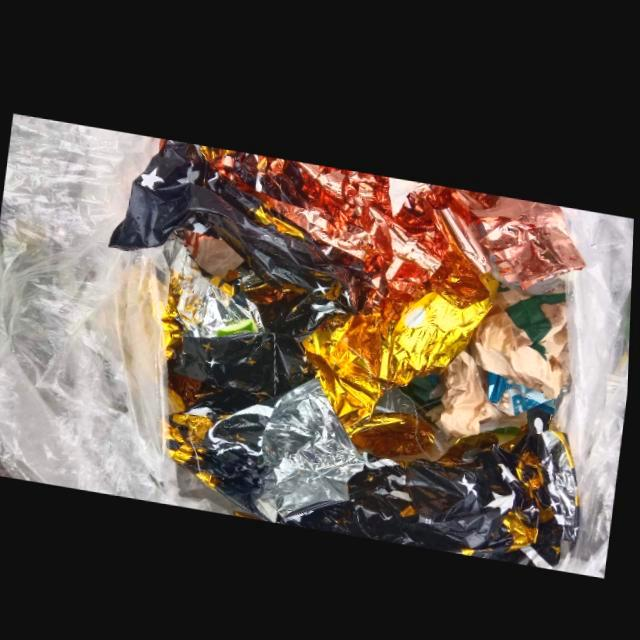aluminum: (109, 136, 350, 510), (210, 154, 586, 306), (280, 407, 583, 560), (305, 265, 501, 451), (261, 373, 367, 518)
paper: (428, 270, 571, 429)
